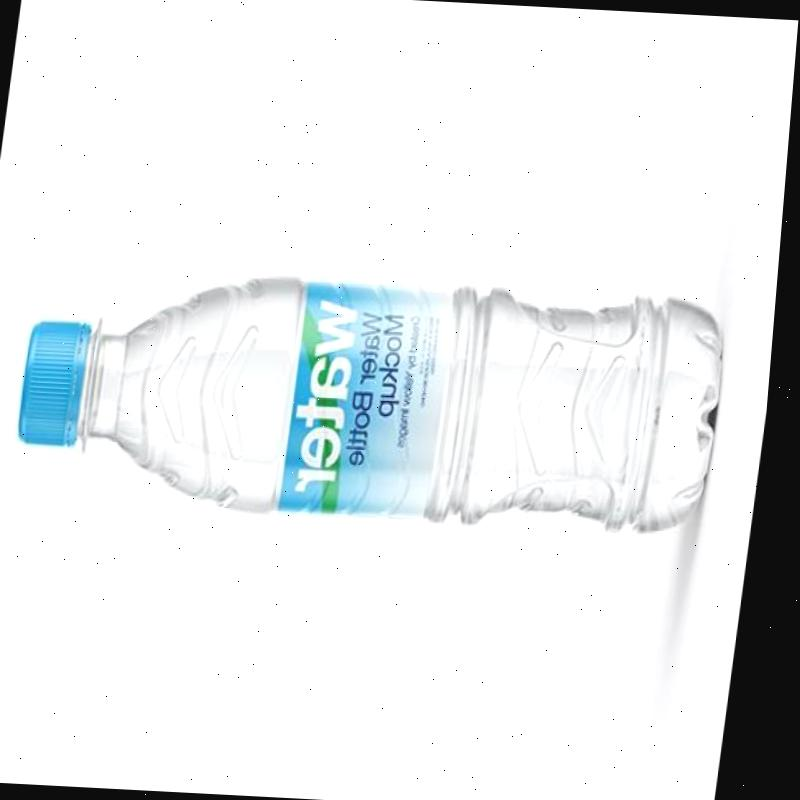botella: (9, 260, 735, 540)
